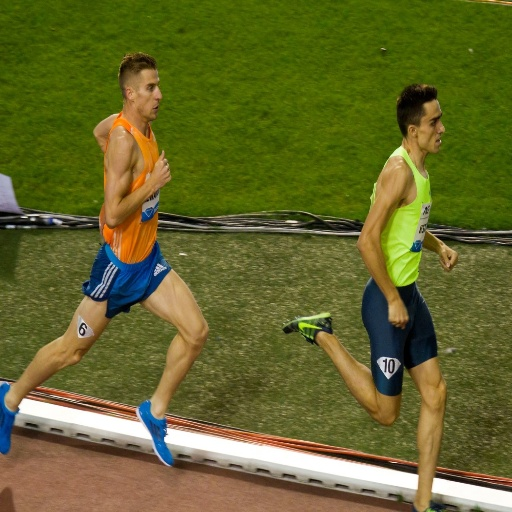hand: (386, 296, 409, 331), (153, 147, 172, 187), (438, 242, 459, 273)
